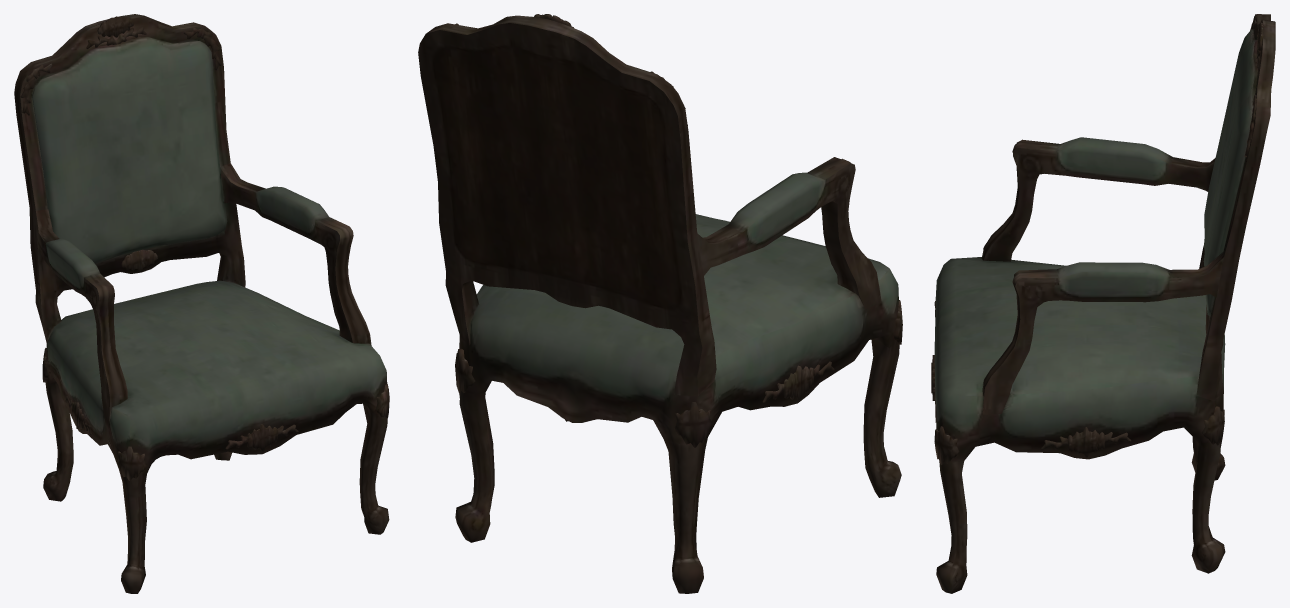
The model's file is GreenChair_01.glb.
3 views of the same model, side by side, from view 1: azimuth 30°, elevation 25°; view 2: azimuth 150°, elevation 25°; view 3: azimuth 270°, elevation 25° (orthographic). The views are drawn at different scales.
Visible parts, largest first — view 1: GreenChair_01; view 2: GreenChair_01; view 3: GreenChair_01.
Boxes of the visible parts, x1,y1,x2,y2 form: GreenChair_01: [14, 14, 389, 593]; GreenChair_01: [418, 14, 902, 593]; GreenChair_01: [931, 14, 1275, 593].
Size of the model in its own units: 0.6732 by 1.06 by 0.6644.
1 material, 1 textured.
